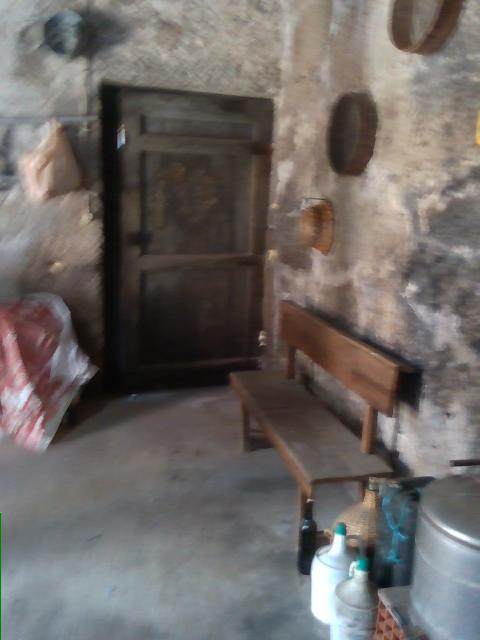door: (100, 80, 274, 403)
